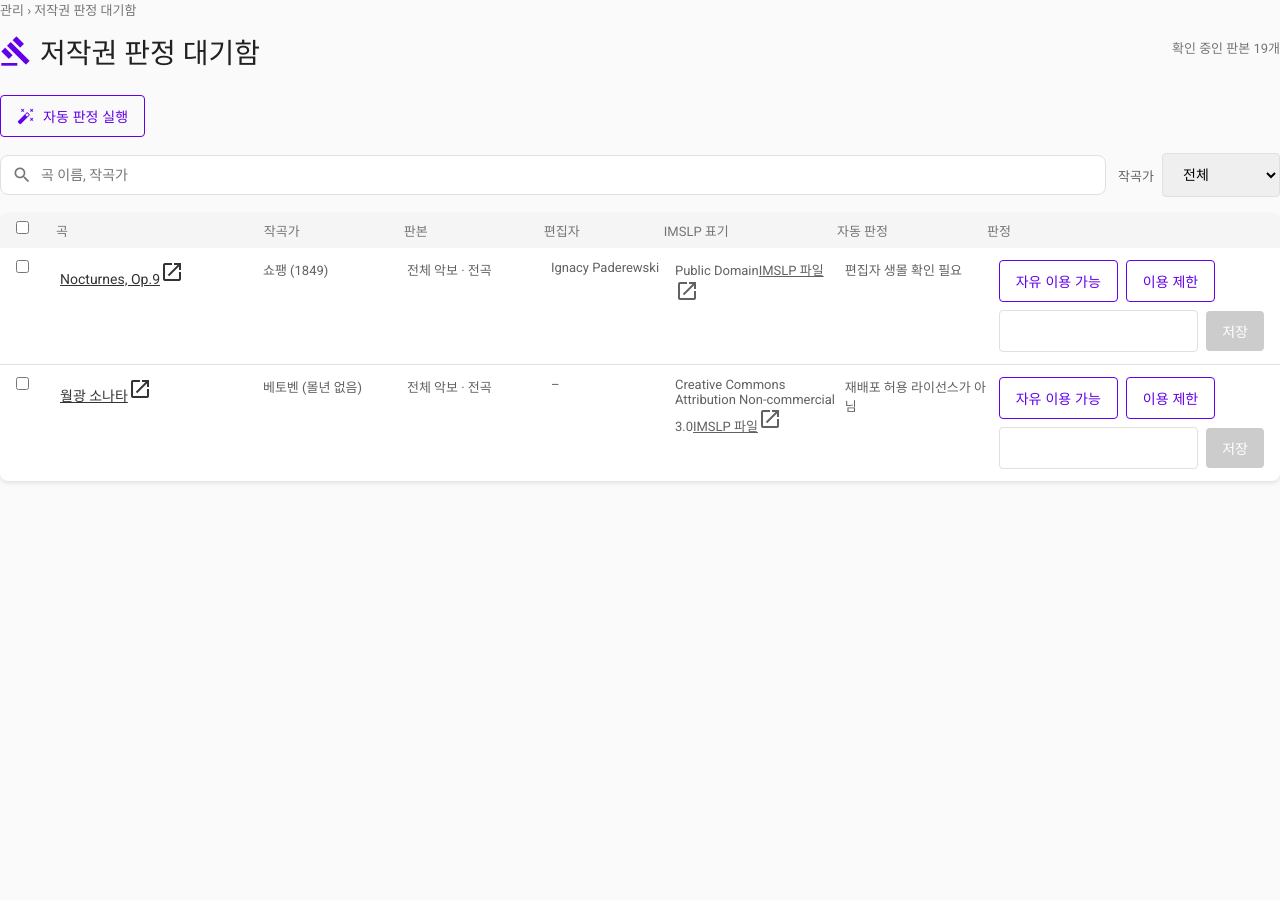
Test: 대기함 — 되돌리기 확인 모달의 숫자 (02 §5-8-1 문구 표) › 셀 값이 아직 없는 실행 직후 창에서는 숫자 절을 통째로 뺀다 — '판본 0개' 를 만들지 않는다
The width and height of the screenshot is (1280, 900).
Click the button "자동 판정 실행".
click(73, 116)  # box top-left (0, 95), bottom-right (145, 137)
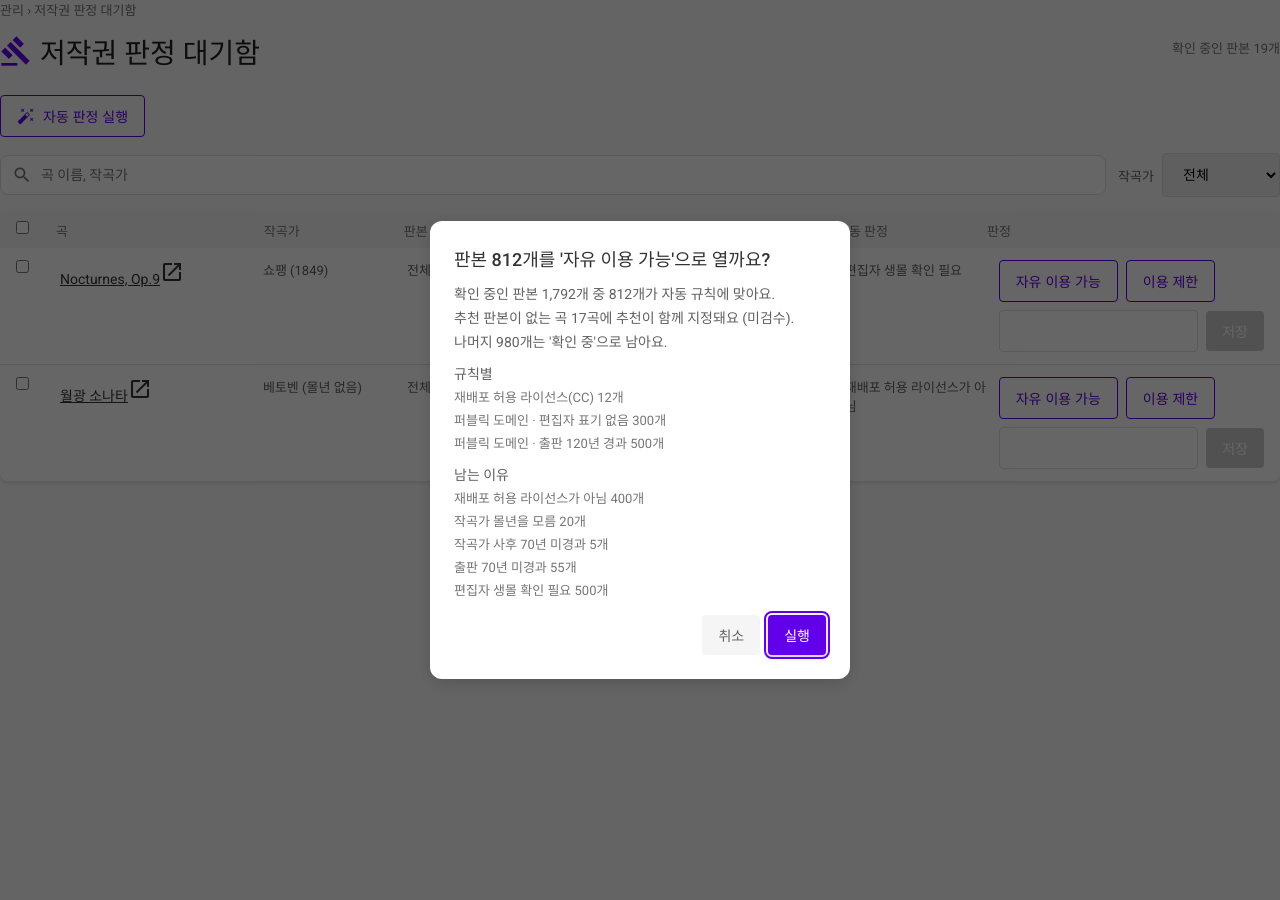
Now the dialog is shown, box top-left (430, 221), bottom-right (850, 679)
Click the button "실행".
click(797, 635)  # box top-left (768, 615), bottom-right (826, 655)
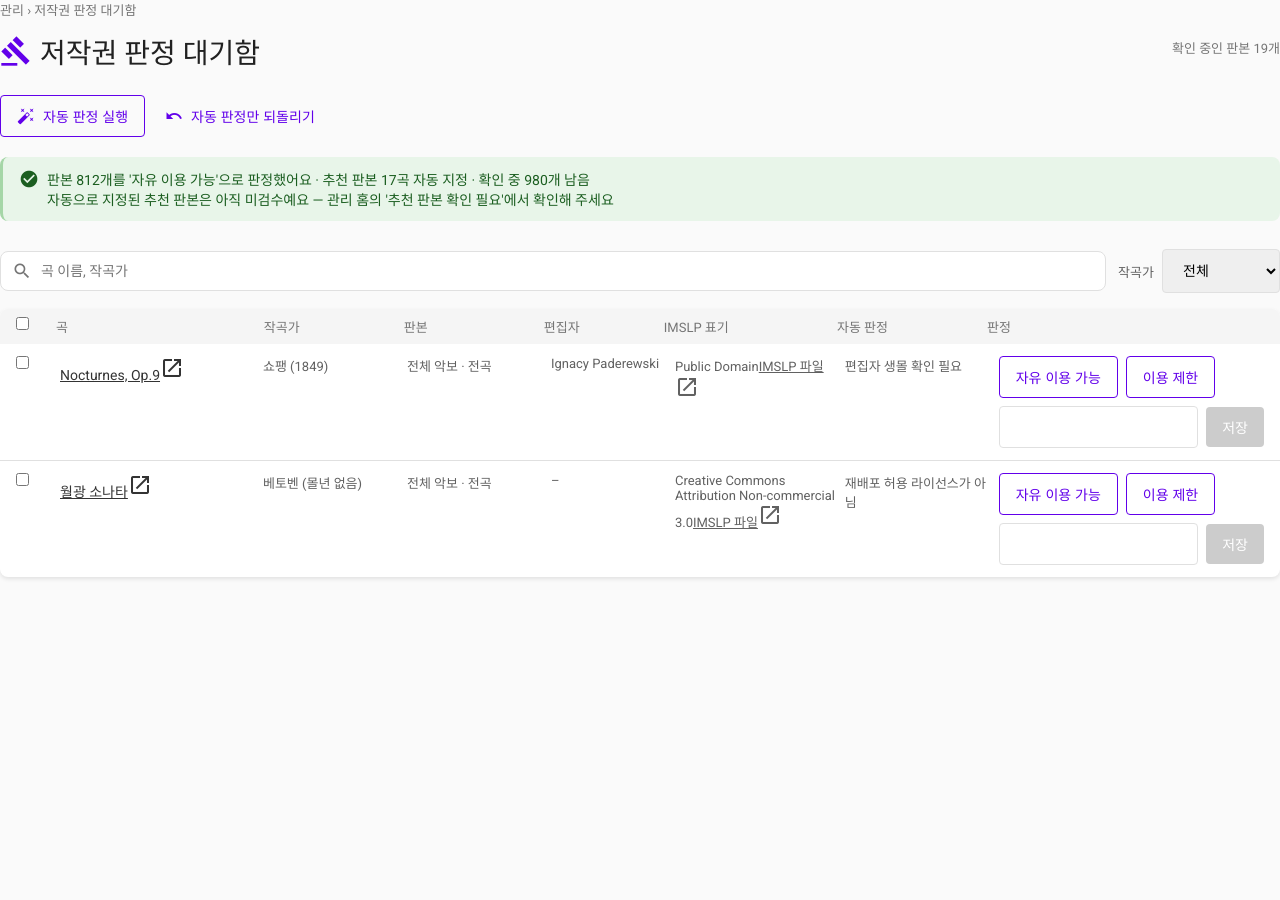
Now the text "판정했어요" is shown, box top-left (47, 172), bottom-right (590, 188)
Click the button "자동 판정만 되돌리기".
click(240, 116)  # box top-left (153, 98), bottom-right (327, 134)
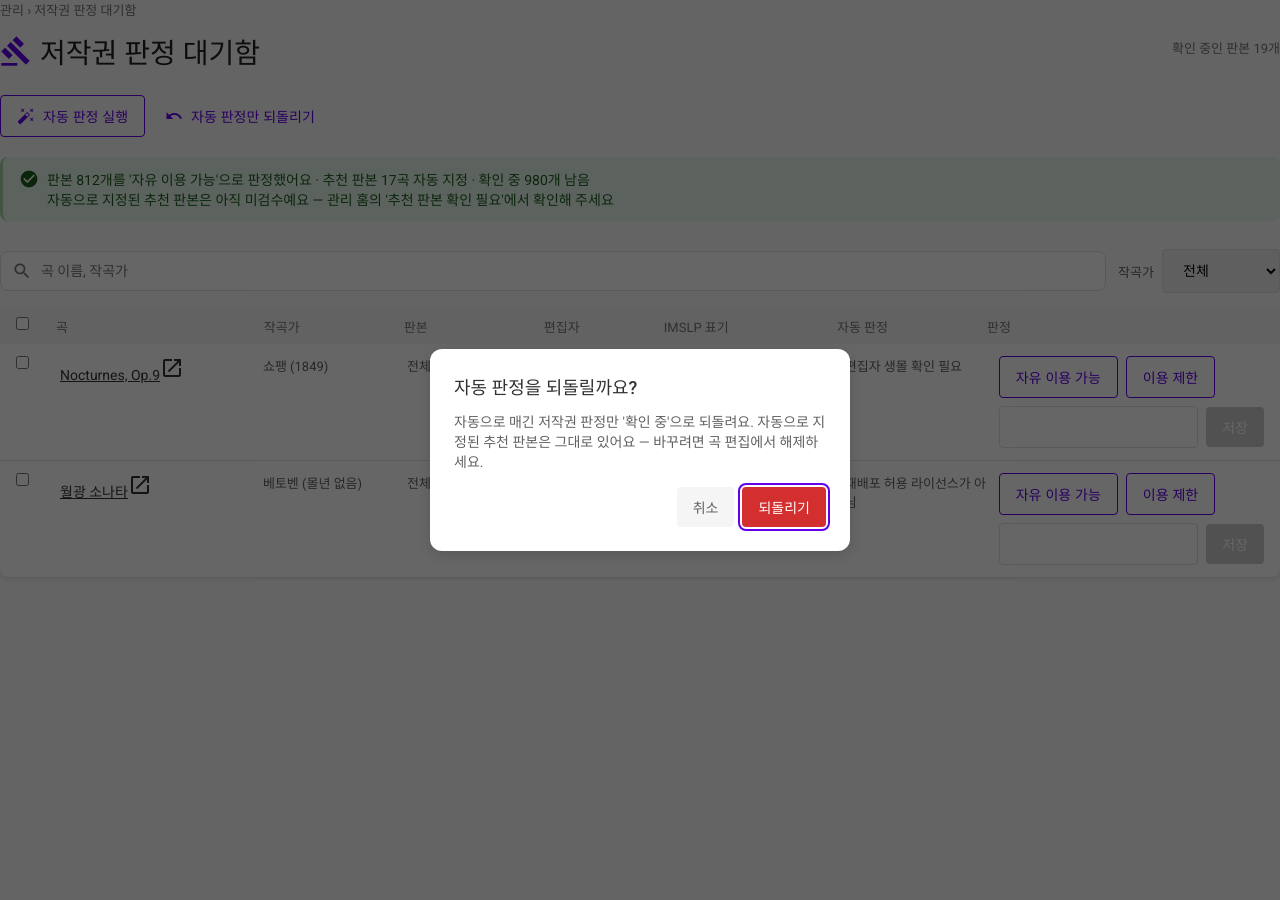
Now the dialog is shown, box top-left (430, 349), bottom-right (850, 551)
Now the dialog shows "자동으로 매긴 저작권 판정만 '확인 중'으로 되돌려요", box top-left (454, 414), bottom-right (825, 470)
Now the dialog shows "자동으로 지정된 추천 판본은 그대로 있어요", box top-left (454, 414), bottom-right (825, 470)
